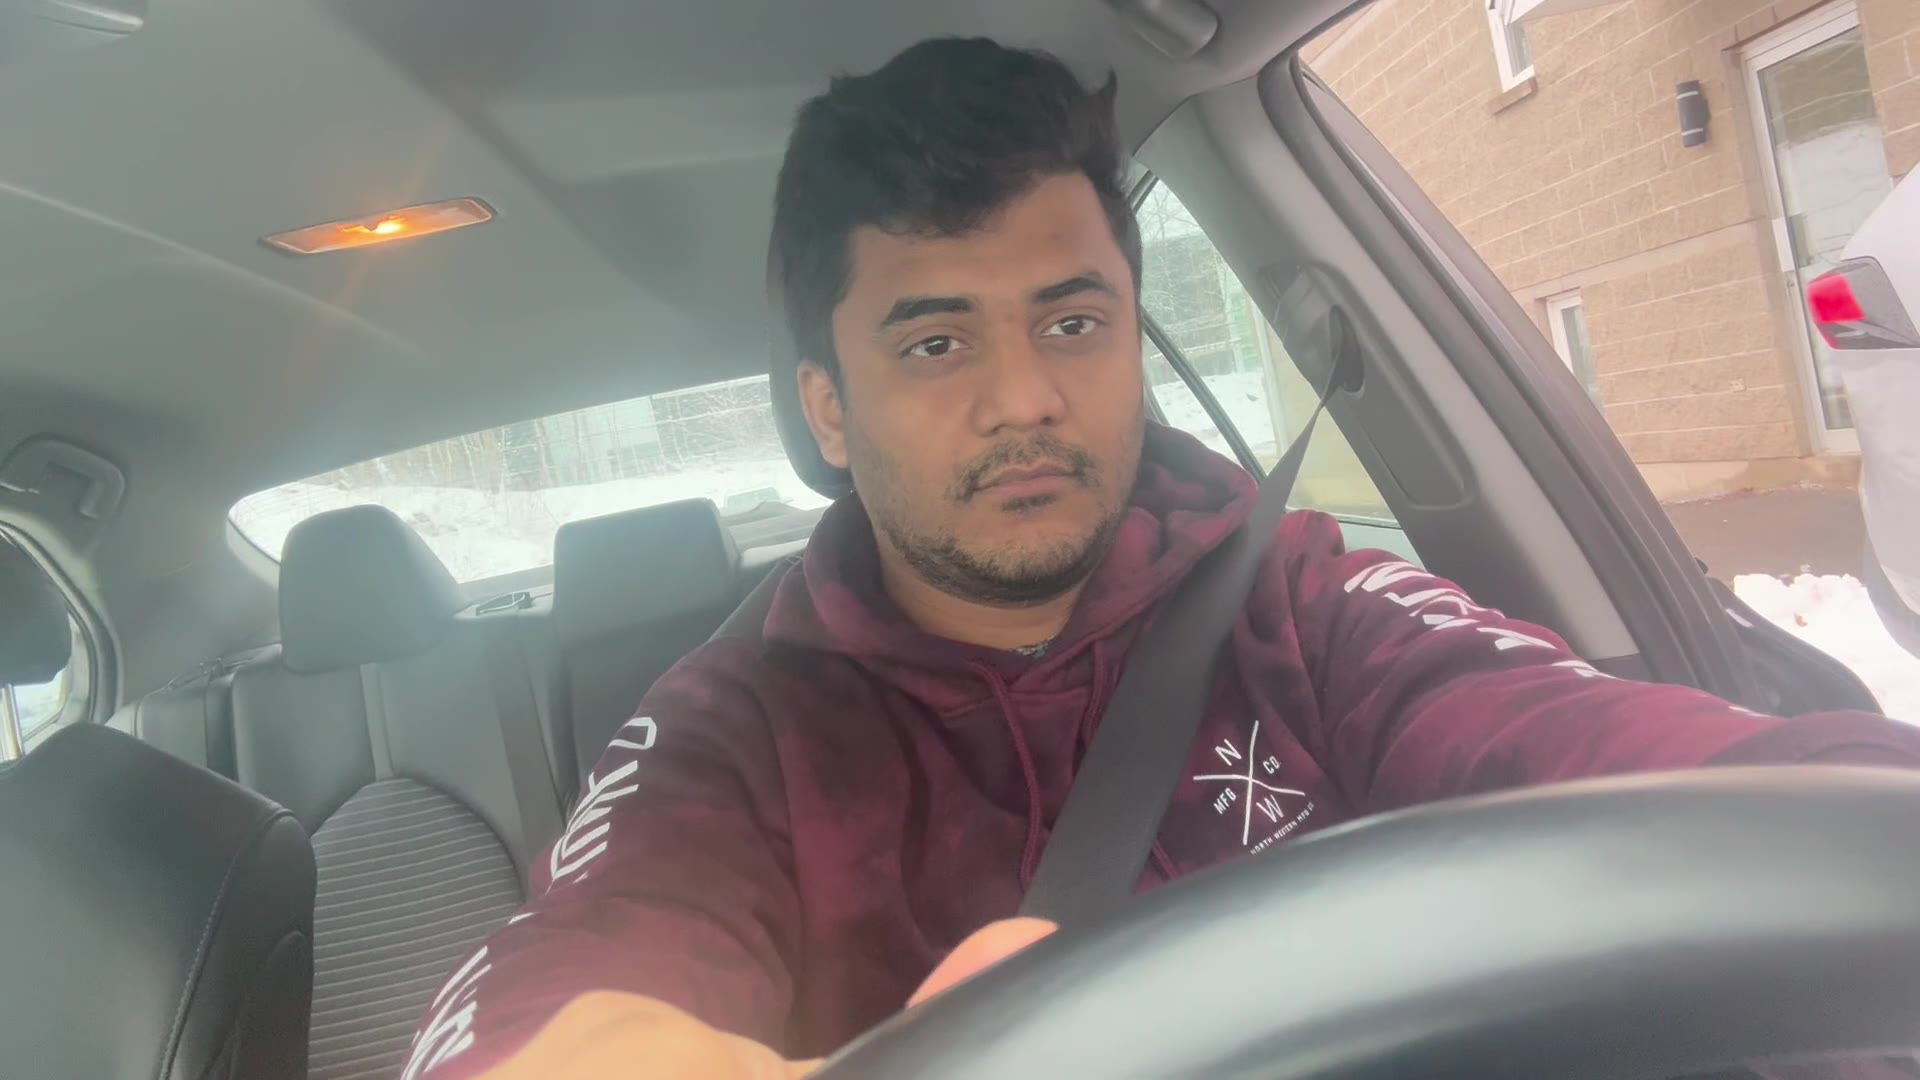seatbelt: (1015, 273, 1407, 961)
